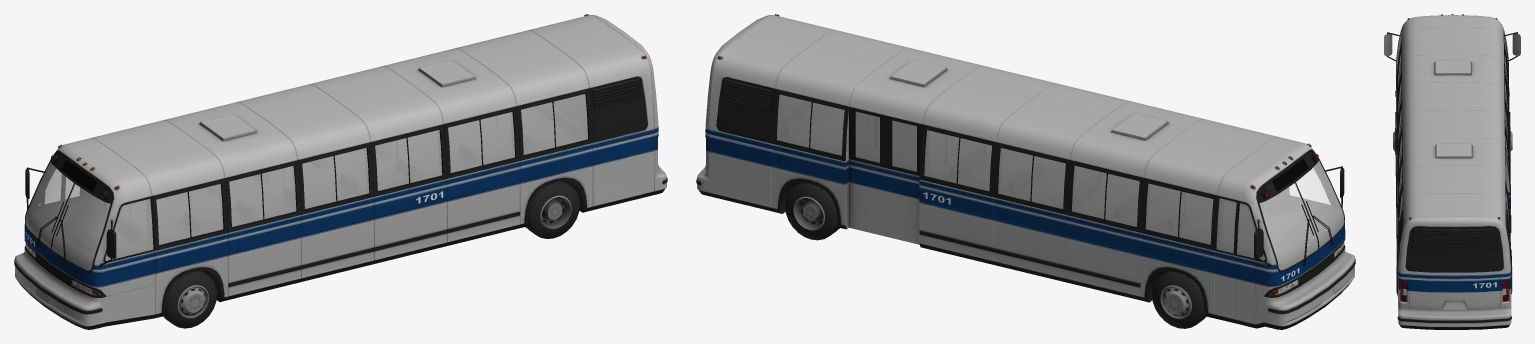
Rendered from citybus.glb.
The picture shows the model from 3 angles, left to right: view 1: azimuth 30°, elevation 25°; view 2: azimuth 150°, elevation 25°; view 3: azimuth 270°, elevation 25°; orthographic projection. The views are drawn at different scales.
Parts seen in each view (by area): view 1: body; view 2: body; view 3: body.
Part boxes in pixels (left/top/right/bottom): body: left=14, top=14, right=667, bottom=329; body: left=696, top=14, right=1355, bottom=329; body: left=1384, top=14, right=1520, bottom=329.
Bounding box in the file's own units: 11 × 2.78 × 2.8.
5 materials, 3 textured.
